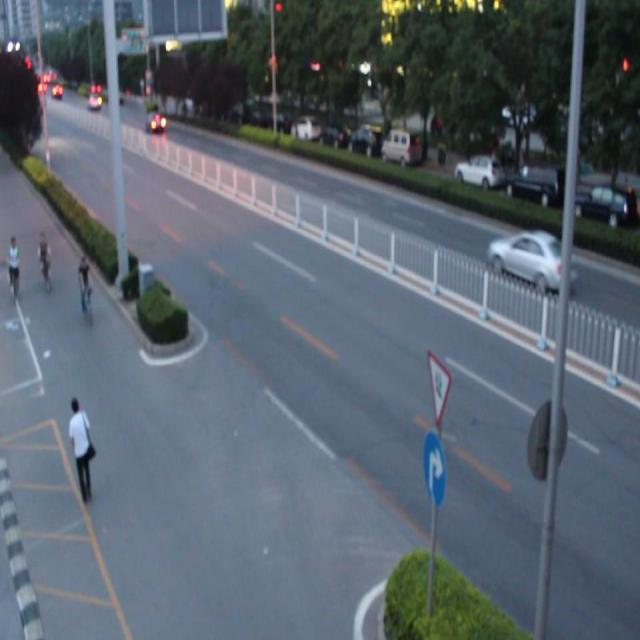car: (486, 228, 577, 292)
